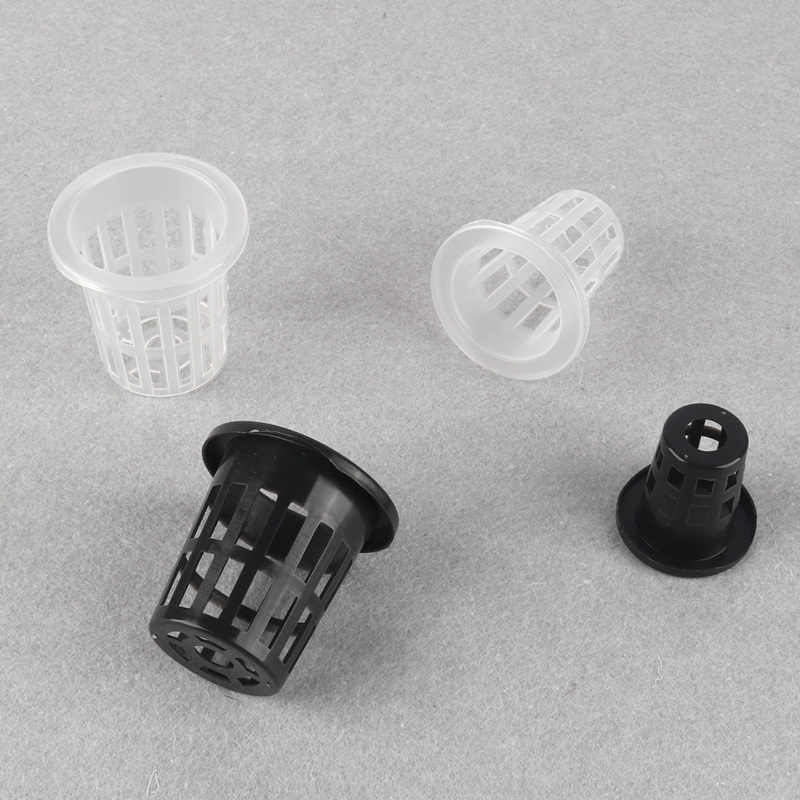basket: (139, 412, 402, 716), (41, 138, 275, 395), (421, 181, 648, 391), (611, 392, 778, 586)
